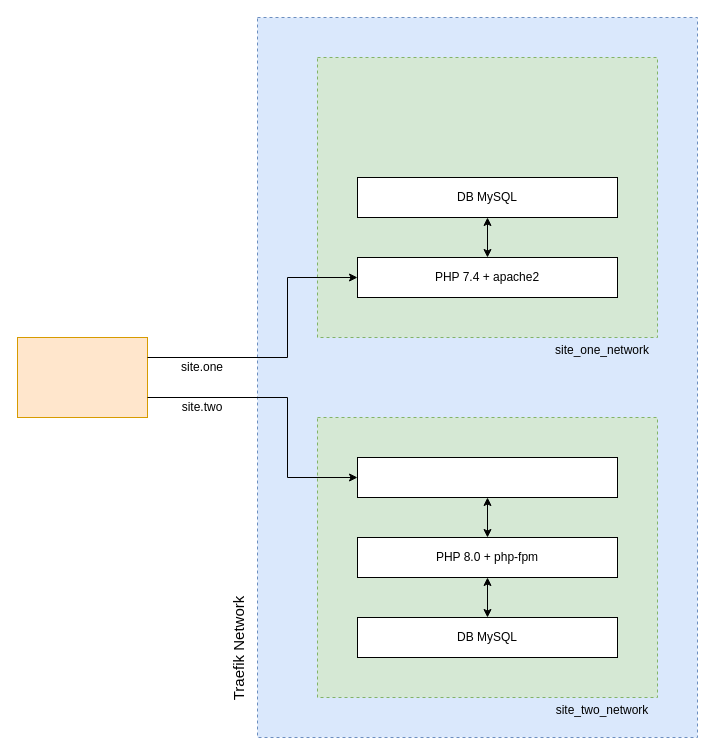
Some shapes in this 715 by 755 pixel diagram are drawn without their labels. Each missing label, with the centre of its shape:
"Nginx" goes at (487,477).
"Traefik Proxy" goes at (82,377).
